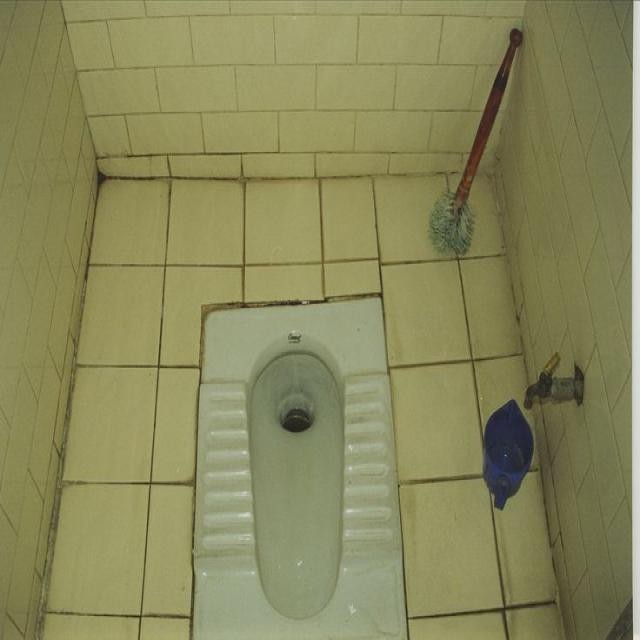damage: (427, 26, 523, 256)
dirty_floor: (42, 170, 565, 638), (189, 293, 409, 637), (245, 345, 347, 620)
